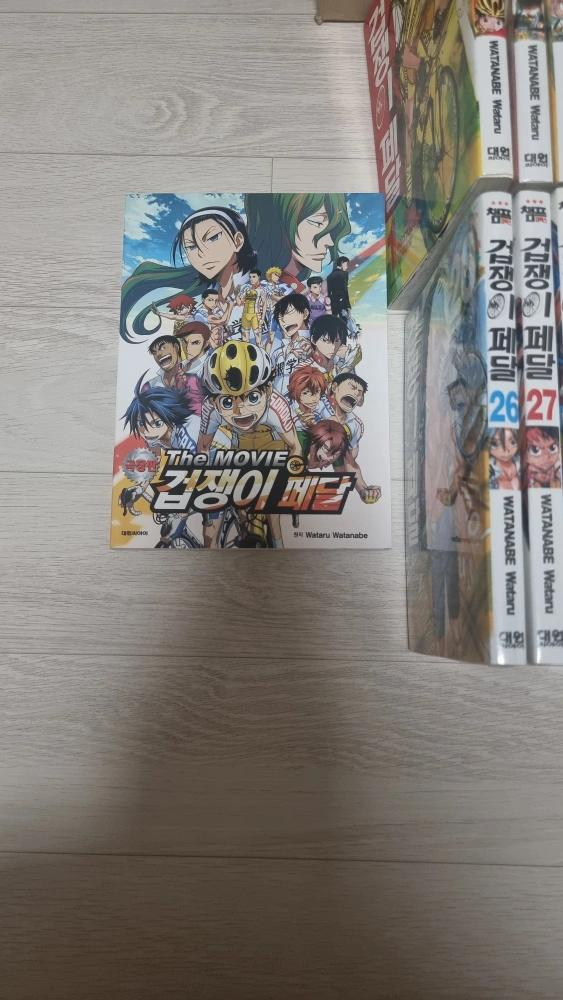book: (110, 191, 389, 549), (401, 201, 563, 659), (348, 4, 563, 304)
